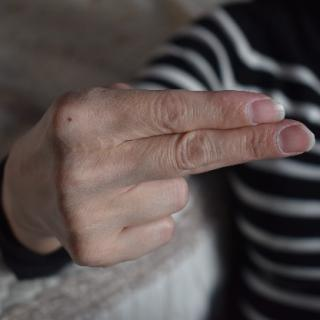AYN: (0, 74, 320, 278)
